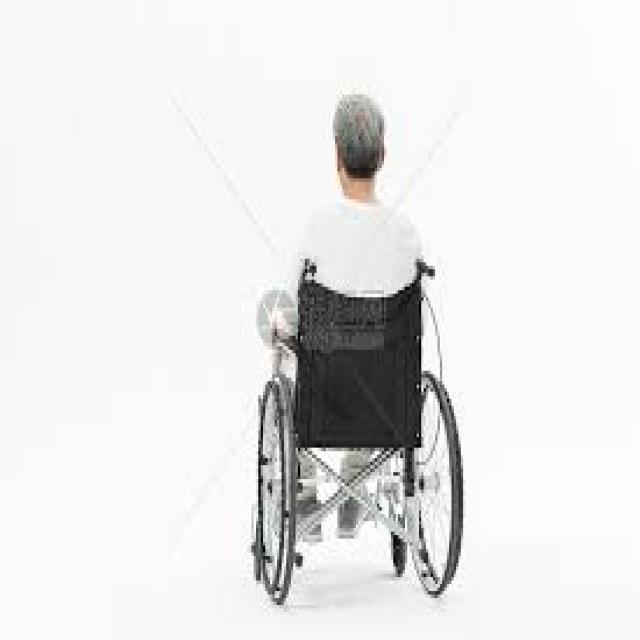wheelchairs: (226, 245, 475, 605)
